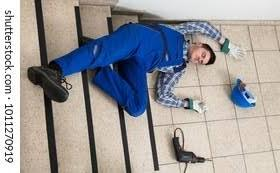fall: (50, 2, 228, 140)
